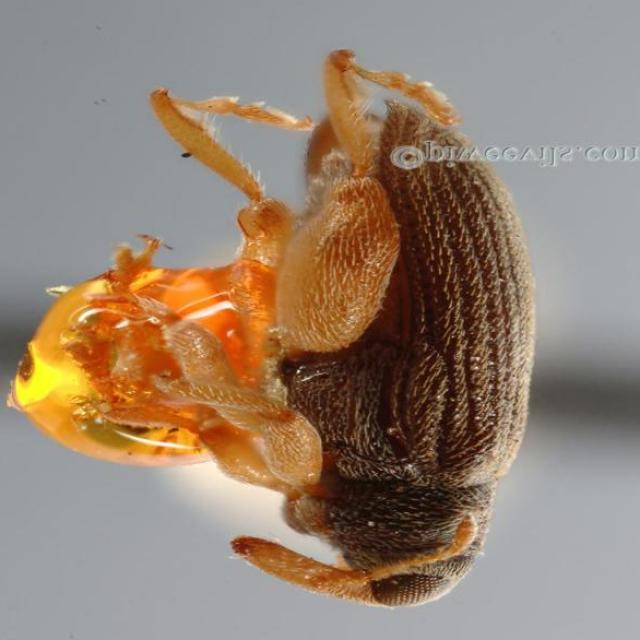ricebug: (233, 104, 534, 606)
